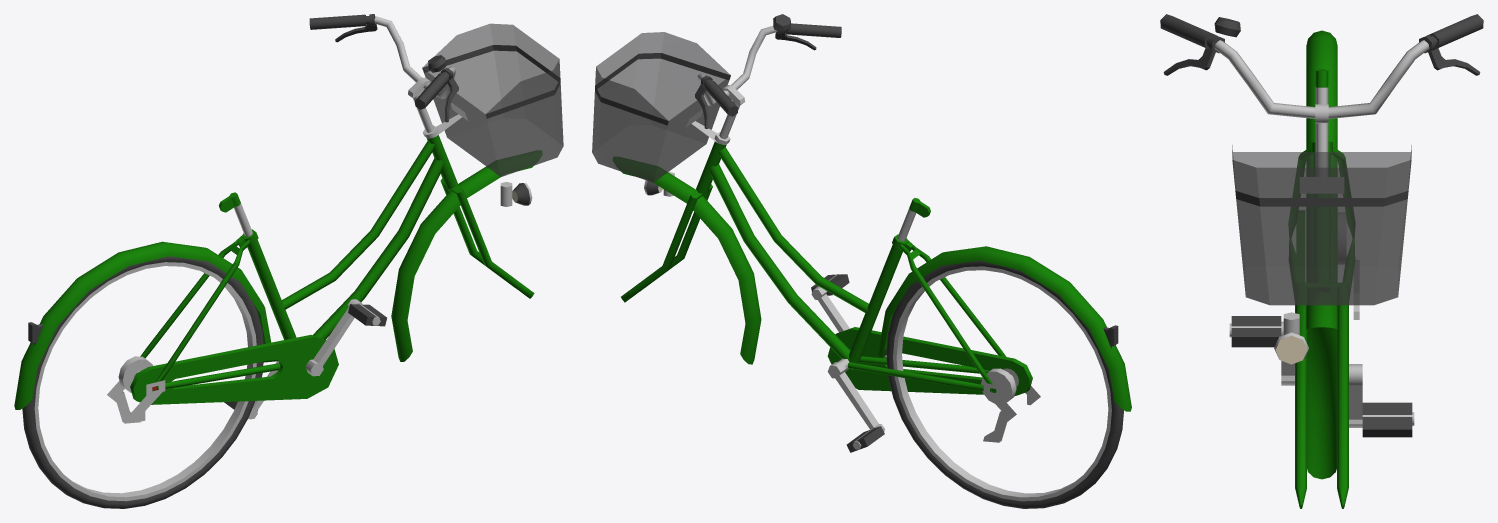
File: Bicycle.fbx
3 views of the same model, side by side, from view 1: azimuth 30°, elevation 25°; view 2: azimuth 150°, elevation 25°; view 3: azimuth 270°, elevation 25° (orthographic). The views are drawn at different scales.
Parts seen in each view (by area): view 1: Group17, wheel1, Group4, Group19, Group1, Group18, Group3, Group15, Group13, Group2, Group20, Group10 (+5 smaller); view 2: Group17, wheel1, Group19, Group1, Group4, Group18, Group3, Group16, Group13, Group15, Group2, Group11 (+6 smaller); view 3: Group17, Group18, Group13, Group19, Group2, Bike_Pedal2, Group22, Group24, Bike_Pedal1, Group7, Group11, Group21 (+10 smaller).
Boxes of the visible parts, x1=… form: Group17: x1=422, y1=23, x2=563, y2=176; wheel1: x1=22, y1=256, x2=263, y2=508; Group4: x1=130, y1=335, x2=338, y2=404; Group19: x1=14, y1=241, x2=271, y2=409; Group1: x1=219, y1=158, x2=444, y2=339; Group18: x1=391, y1=151, x2=541, y2=361; Group3: x1=282, y1=141, x2=434, y2=309; Group15: x1=152, y1=239, x2=280, y2=390; Group13: x1=440, y1=178, x2=534, y2=298; Group2: x1=413, y1=94, x2=467, y2=188; Group20: x1=107, y1=380, x2=165, y2=423; Group10: x1=305, y1=299, x2=380, y2=376; Group17: x1=592, y1=32, x2=730, y2=182; wheel1: x1=886, y1=260, x2=1123, y2=508; Group19: x1=878, y1=246, x2=1131, y2=411; Group1: x1=709, y1=164, x2=930, y2=370; Group4: x1=827, y1=327, x2=1032, y2=395; Group18: x1=613, y1=157, x2=761, y2=364; Group3: x1=718, y1=147, x2=868, y2=312; Group16: x1=847, y1=244, x2=996, y2=392; Group13: x1=621, y1=184, x2=712, y2=302; Group15: x1=859, y1=240, x2=1006, y2=373; Group2: x1=686, y1=101, x2=739, y2=194; Group11: x1=827, y1=358, x2=884, y2=449; Group17: x1=1232, y1=145, x2=1411, y2=305; Group18: x1=1306, y1=291, x2=1337, y2=479; Group13: x1=1295, y1=283, x2=1348, y2=508; Group19: x1=1306, y1=30, x2=1337, y2=299; Group2: x1=1300, y1=123, x2=1343, y2=282; Bike_Pedal2: x1=1362, y1=402, x2=1412, y2=437; Group22: x1=1214, y1=40, x2=1315, y2=118; Group24: x1=1328, y1=40, x2=1429, y2=118; Bike_Pedal1: x1=1231, y1=316, x2=1281, y2=347; Group7: x1=1274, y1=312, x2=1308, y2=364; Group11: x1=1349, y1=364, x2=1414, y2=427; Group21: x1=1160, y1=14, x2=1224, y2=53.
Size of the model in its own units: 1879 by 1389 by 703.
